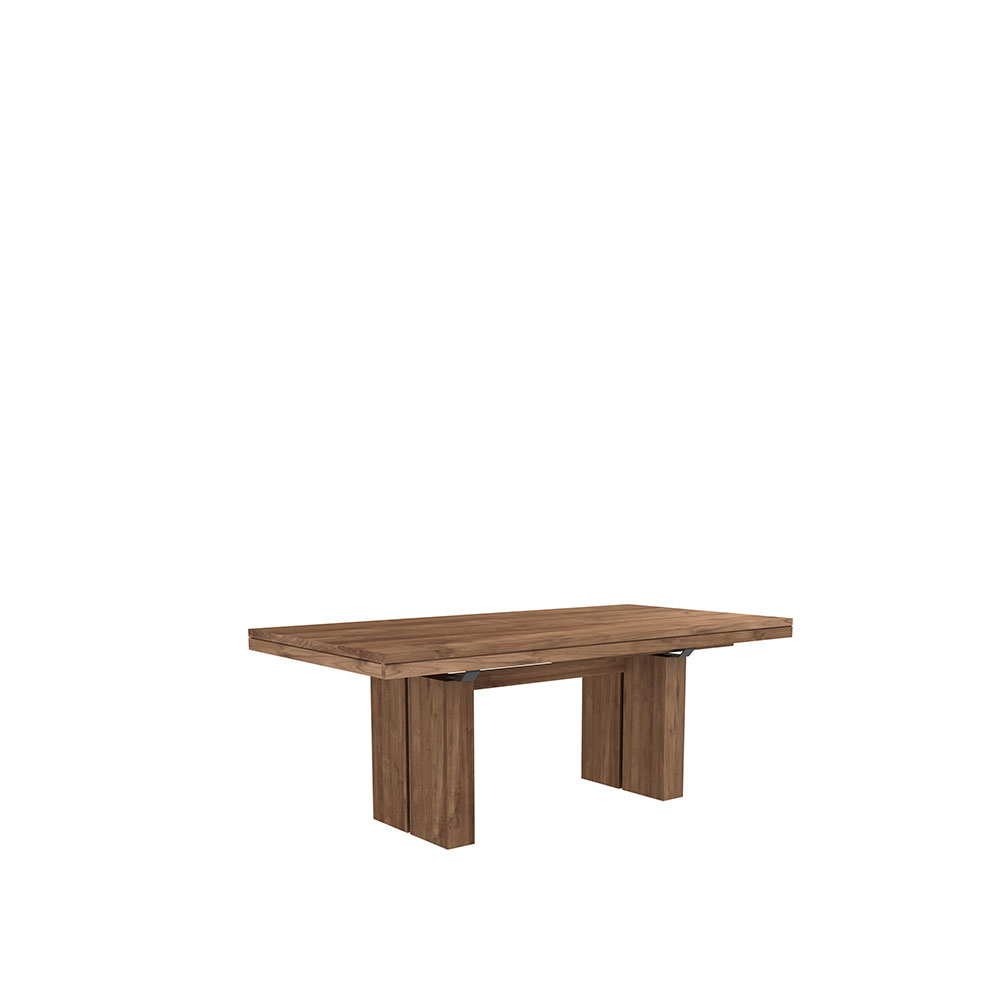meja: (238, 412, 823, 960)
